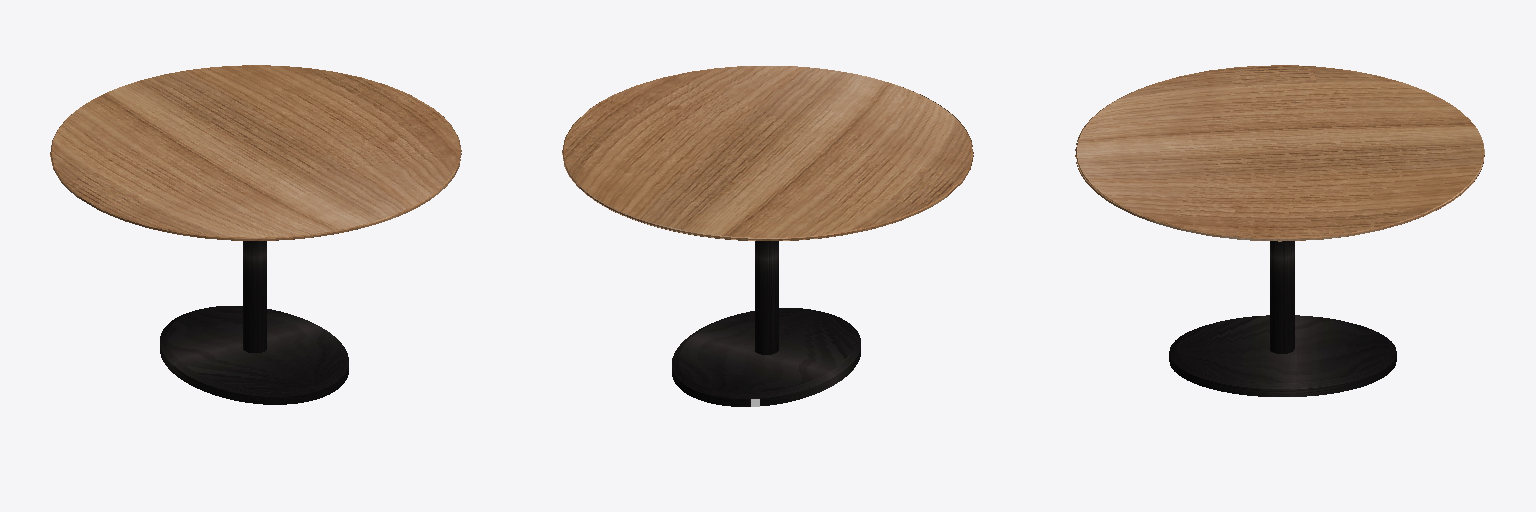
3 renders of one model, left to right at view 1: azimuth 30°, elevation 25°; view 2: azimuth 150°, elevation 25°; view 3: azimuth 270°, elevation 25°, orthographic.
Visible parts, largest first — view 1: table-01_obj.093, table-01_obj.094, Cilindro, table-01_obj.089, table-01_obj.092; view 2: table-01_obj.093, table-01_obj.094, Cilindro, table-01_obj.089, table-01_obj.092; view 3: table-01_obj.093, table-01_obj.094, Cilindro, table-01_obj.089, table-01_obj.092.
Boxes of the visible parts, <box> form: table-01_obj.093: <box>51,65,459,237</box>; table-01_obj.094: <box>160,306,348,404</box>; Cilindro: <box>243,241,266,352</box>; table-01_obj.089: <box>52,116,461,240</box>; table-01_obj.092: <box>50,95,460,238</box>; table-01_obj.093: <box>563,66,971,237</box>; table-01_obj.094: <box>672,308,860,406</box>; Cilindro: <box>755,241,778,354</box>; table-01_obj.089: <box>566,87,973,240</box>; table-01_obj.092: <box>562,102,972,238</box>; table-01_obj.093: <box>1077,65,1483,237</box>; table-01_obj.094: <box>1169,315,1396,396</box>; Cilindro: <box>1270,241,1294,353</box>; table-01_obj.089: <box>1075,86,1477,240</box>; table-01_obj.092: <box>1076,120,1484,238</box>.
Size of the model in its own units: 94.11 by 52.7 by 93.62.
Materials: 4 (1 with a texture image).